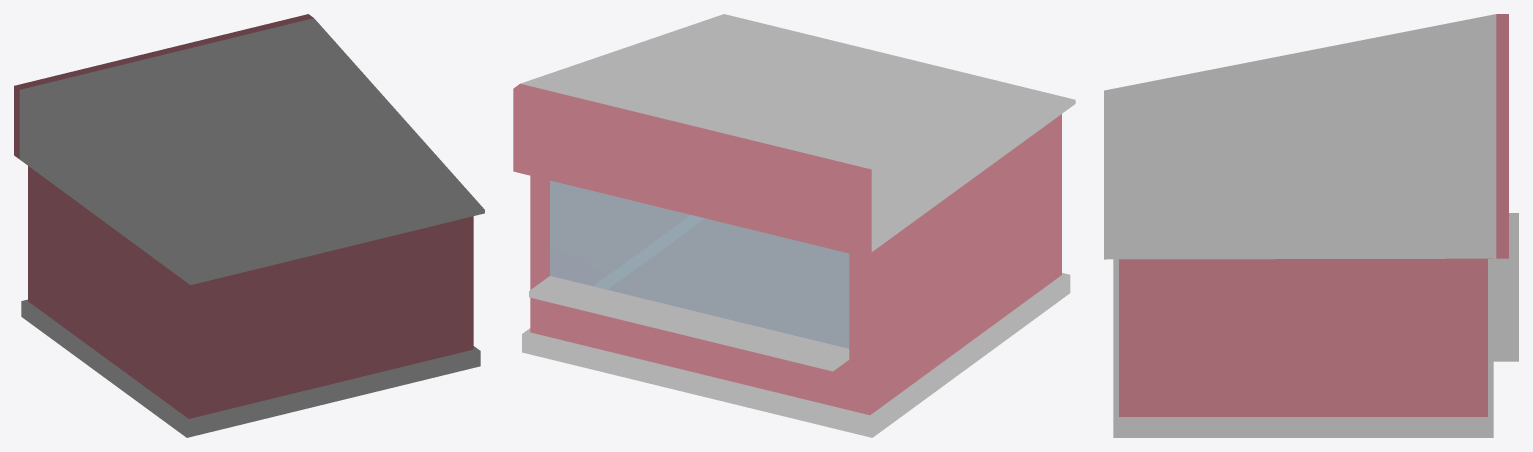
3 renders of one model, left to right at view 1: azimuth 30°, elevation 25°; view 2: azimuth 150°, elevation 25°; view 3: azimuth 270°, elevation 25°, orthographic. The views are drawn at different scales.
Parts seen in each view (by area): view 1: Street_Shop; view 2: Street_Shop; view 3: Street_Shop.
Part boxes in pixels (<box>): Street_Shop: <box>14,14,484,437</box>; Street_Shop: <box>513,14,1075,437</box>; Street_Shop: <box>1104,14,1518,437</box>.
Bounding box in the file's own units: 96.65 × 70.87 × 103.
